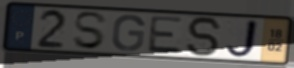2: (36, 8, 69, 51)
E: (146, 15, 185, 56)
G: (110, 14, 147, 53)
J: (223, 18, 261, 61)
S: (186, 15, 225, 59), (71, 11, 110, 52)
